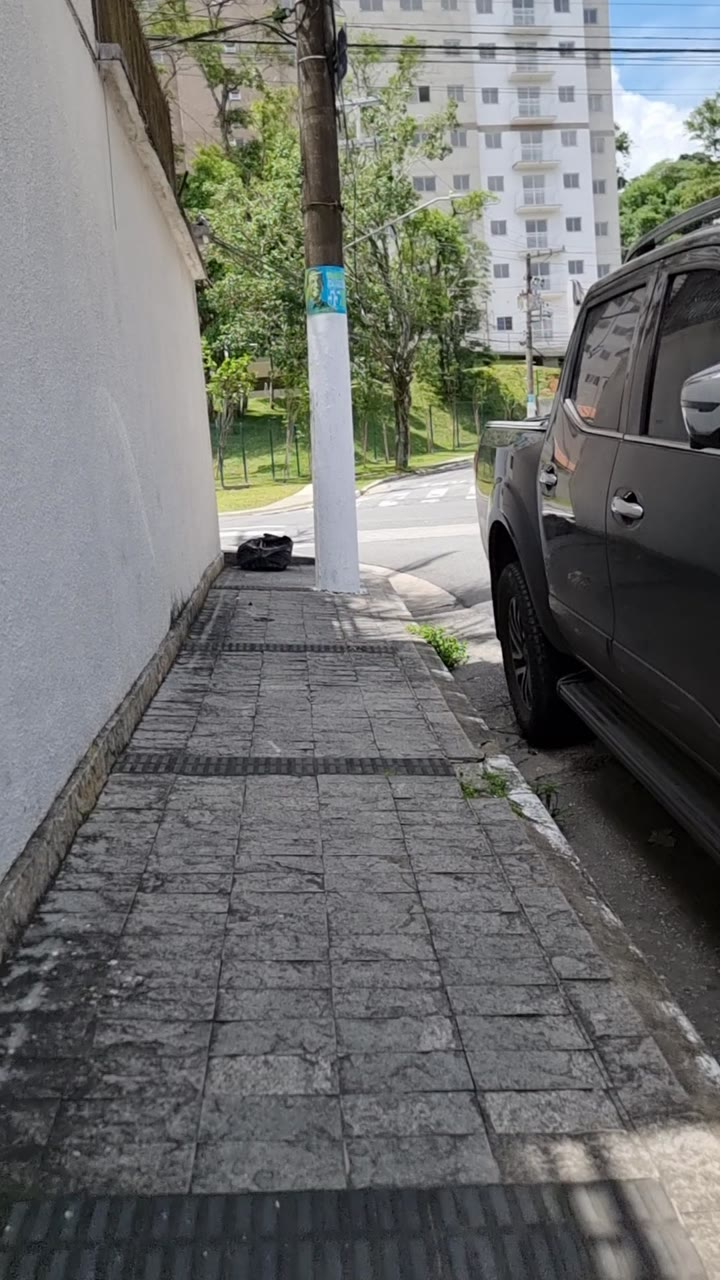obstaculo: (296, 6, 357, 592)
